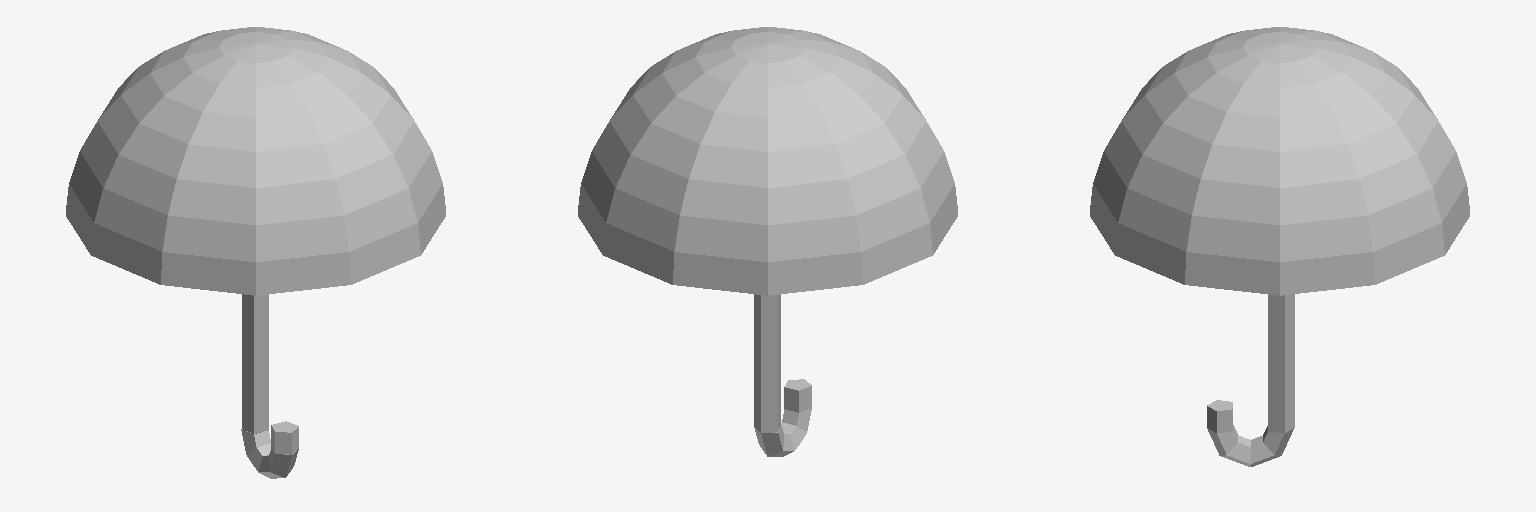
File: Umbrella.obj
3 renders of one model, left to right at view 1: azimuth 30°, elevation 25°; view 2: azimuth 150°, elevation 25°; view 3: azimuth 270°, elevation 25°, orthographic.
Parts seen in each view (by area): view 1: Sphere, Cylinder, Torus; view 2: Sphere, Cylinder, Torus; view 3: Sphere, Cylinder, Torus.
Part boxes in pixels (bbox=[...]): Sphere: bbox=[66, 27, 445, 295]; Cylinder: bbox=[242, 294, 268, 433]; Torus: bbox=[241, 421, 298, 478]; Sphere: bbox=[578, 27, 957, 295]; Cylinder: bbox=[754, 294, 780, 432]; Torus: bbox=[754, 379, 811, 456]; Sphere: bbox=[1090, 27, 1469, 295]; Cylinder: bbox=[1268, 294, 1294, 433]; Torus: bbox=[1207, 400, 1293, 466].
Size of the model in its own units: 26.02 by 31.91 by 26.02.